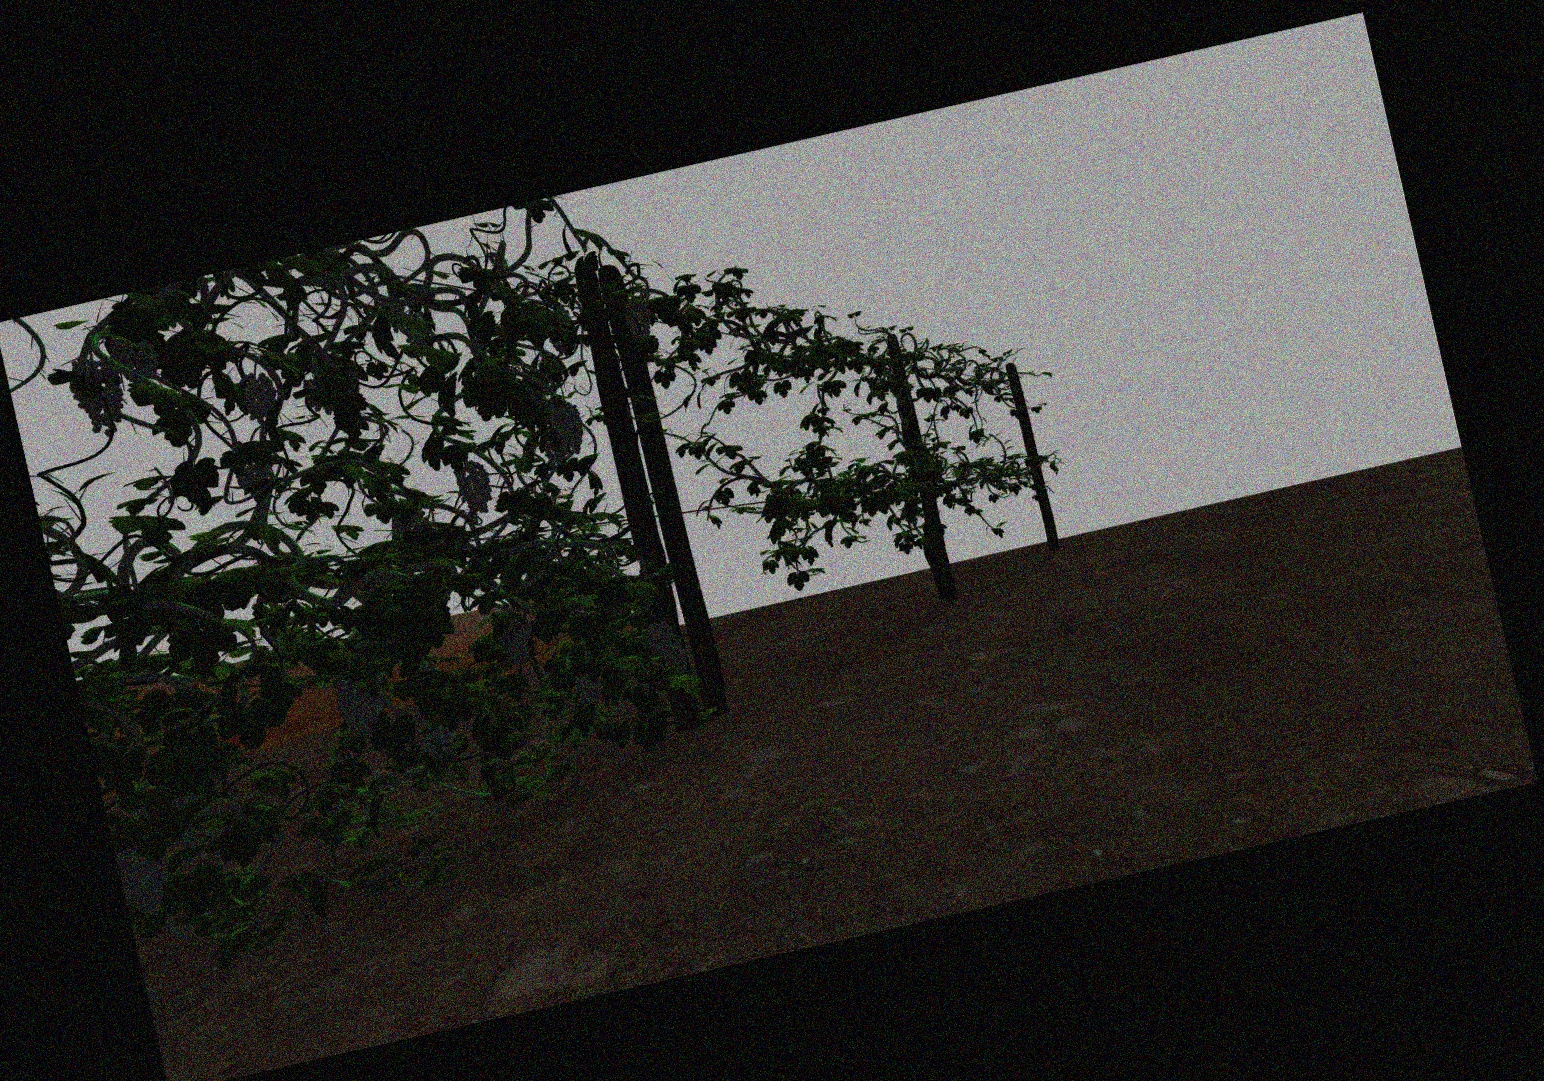grape: (72, 358, 124, 433), (336, 677, 381, 741), (127, 847, 168, 916), (115, 336, 158, 384), (241, 372, 277, 424), (551, 403, 585, 455), (458, 462, 490, 514), (500, 619, 531, 669), (417, 725, 456, 761), (624, 299, 654, 340), (574, 667, 602, 704), (649, 619, 673, 656), (661, 646, 689, 678)
